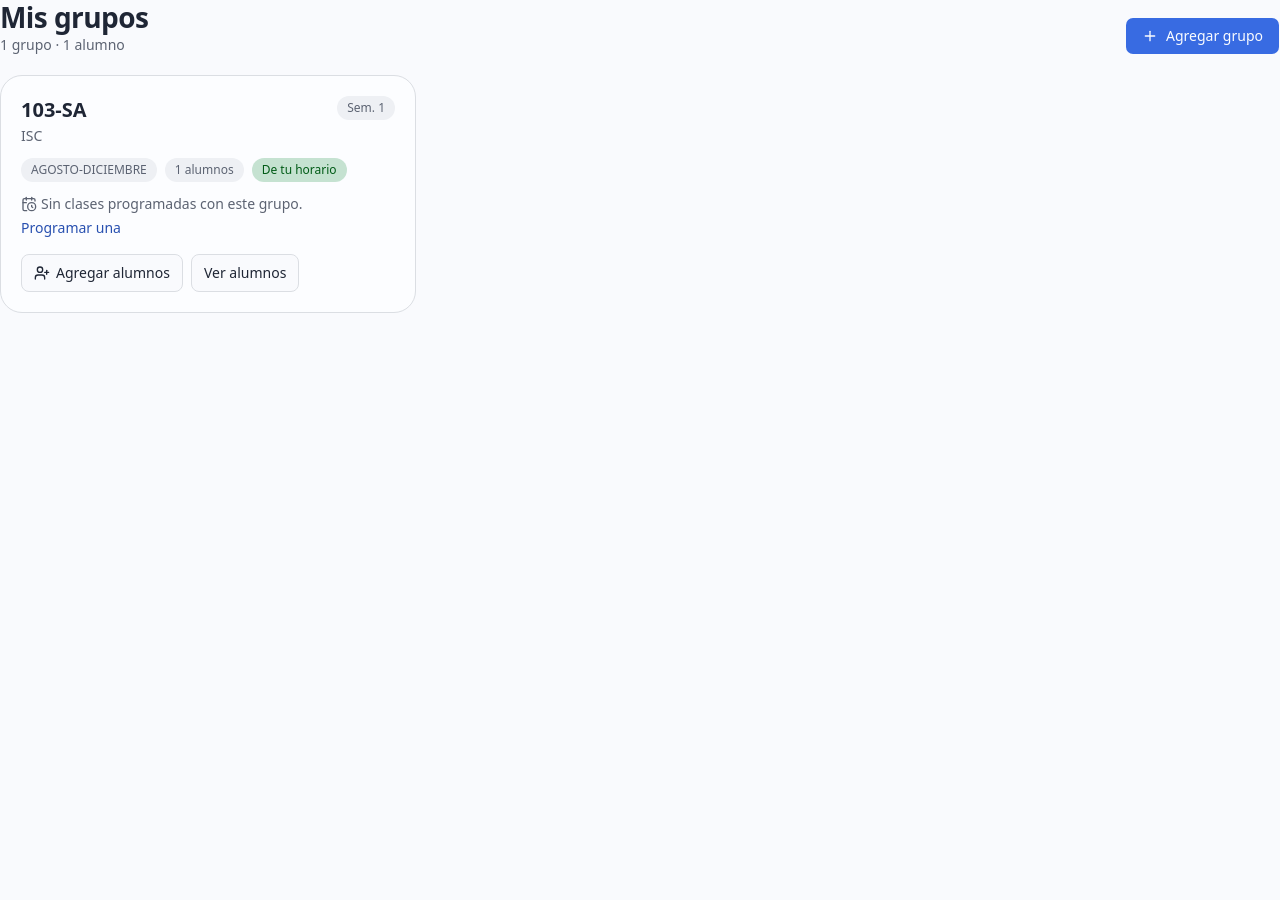
Test: el sexo ya asignado se ve como insignia junto al nombre y se resume en el encabezado
This screenshot has width=1280, height=900.
Click the button "Ver alumnos". click: (245, 273)
box: [191,254,299,292]
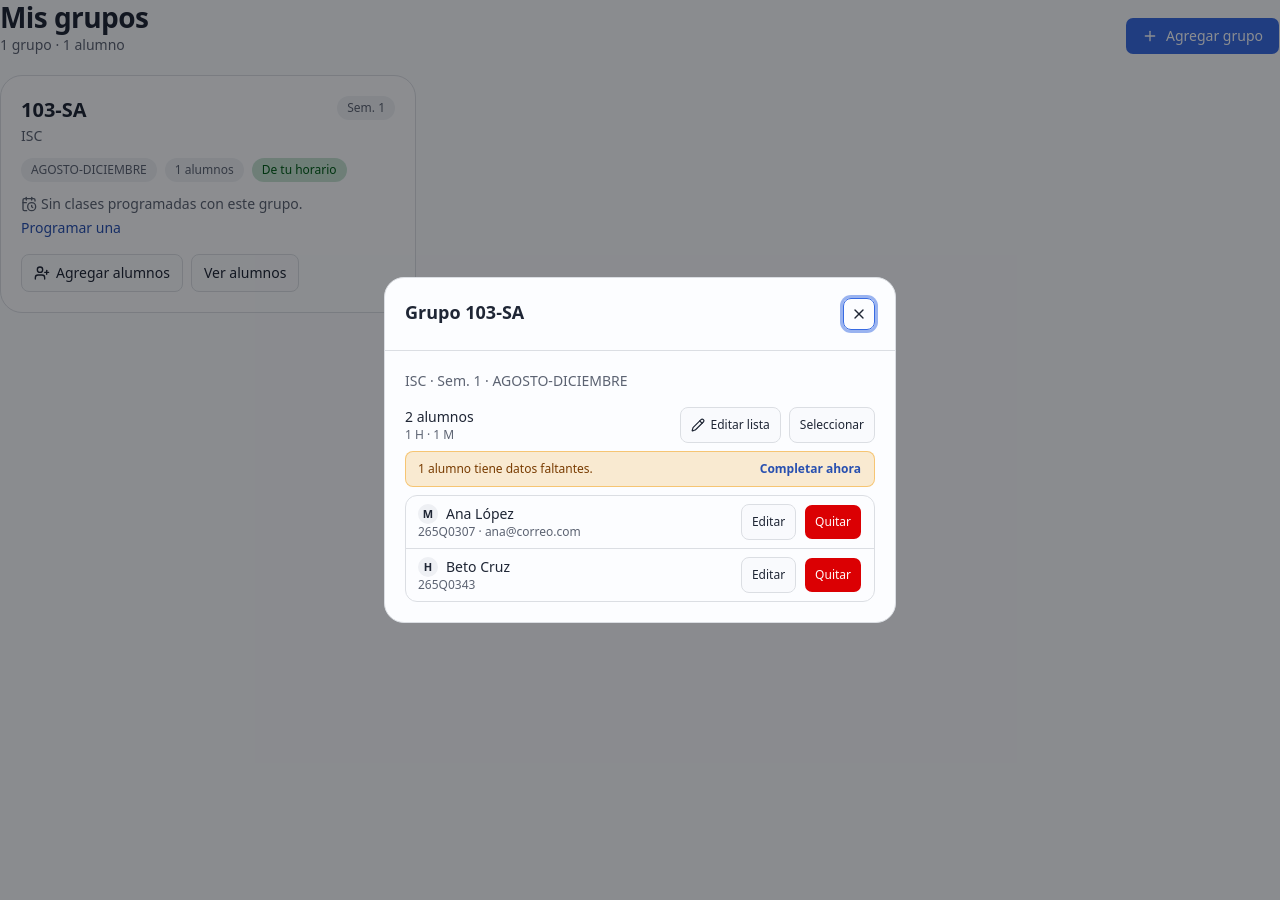
Now the text titled "Mujer" is shown, box [418,504,438,524]
Now the text titled "Hombre" is shown, box [418,557,438,577]
Now the text "1 H · 1 M" is shown, box [405,426,454,443]
